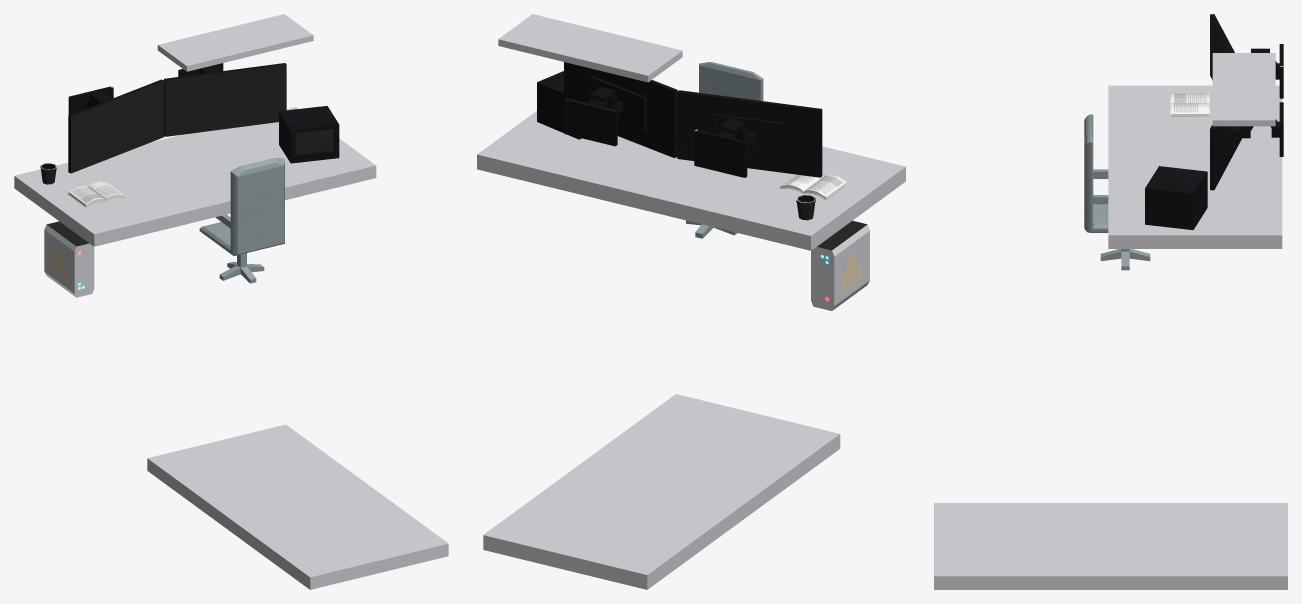
3 views of the same model, side by side, from view 1: azimuth 30°, elevation 25°; view 2: azimuth 150°, elevation 25°; view 3: azimuth 270°, elevation 25° (orthographic). The views are drawn at different scales.
Visible parts, largest first — view 1: Table5, Table, Monitor1, Monitor, Chair, Shelf, OldTv, Computer, OpenBookYellow; view 2: Table5, Table, Monitor, Monitor1, Shelf, Computer, Chair, OldTv, OpenBookYellow; view 3: Table5, Table, Shelf, OldTv, Chair, Monitor1, Monitor, OpenBookYellow.
Part boxes in pixels (x1,y1,x2,y2): Table5: (147,424,448,589); Table: (14,107,376,246); Monitor1: (164,63,286,136); Monitor: (68,79,164,173); Chair: (199,157,284,283); Shelf: (157,14,313,71); OldTv: (279,106,339,163); Computer: (44,221,94,297); OpenBookYellow: (67,181,125,207); Table5: (483,394,840,589); Table: (477,111,905,250); Monitor: (677,90,822,177); Monitor1: (564,62,677,157); Shelf: (498,14,682,82); Computer: (811,220,869,310); Chair: (686,62,763,238); OldTv: (537,71,581,139); OpenBookYellow: (779,174,848,200); Table5: (934,503,1287,589); Table: (1108,85,1282,248); Shelf: (1212,53,1275,126); OldTv: (1145,166,1207,230); Chair: (1084,114,1150,270); Monitor1: (1210,102,1283,190); Monitor: (1210,14,1283,98); OpenBookYellow: (1170,93,1210,116).
Bounding box in the file's own units: 251 × 364 × 251.
2 materials, 2 textured.
